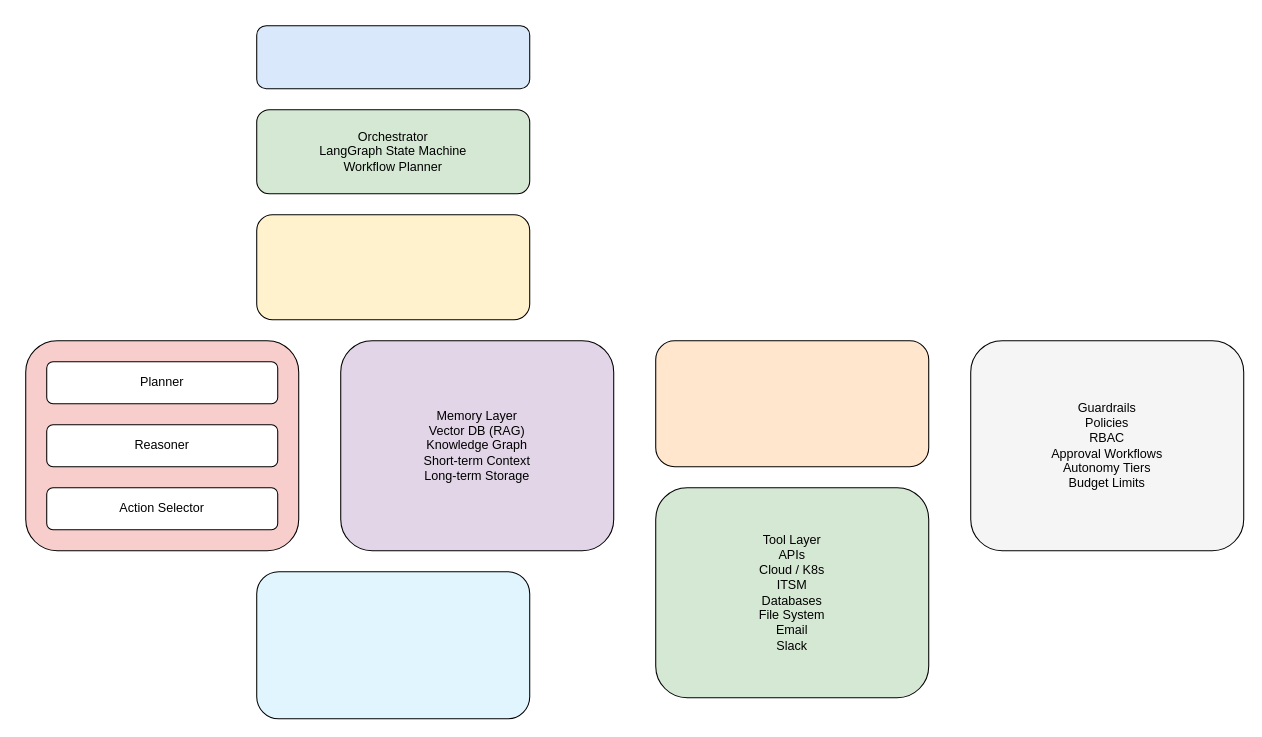
The diagram is 1262 pixels wide and 737 high, and some of its shapes have lost their labels. Each missing label, with the centre of its shape:
"Agent Runtime State Store Retries / Timeouts Budget Control Circuit Breaker" goes at [393,267].
"Input Layer User / Events / Telemetry / API" goes at [393,57].
"Observability Metrics Logs Traces Cost Tracking Evaluation" goes at [393,645].
"Tool Gateway / MCP Policy Enforcement Audit Logging Rate Limits" goes at [792,403].
